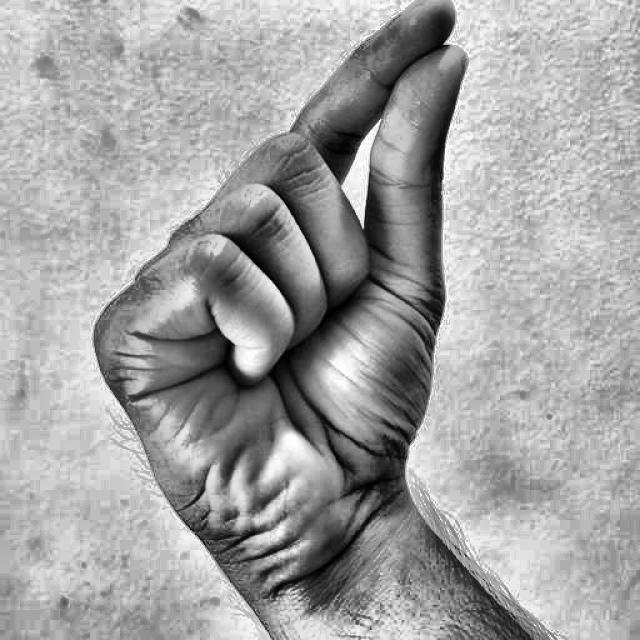Anusshar: (64, 0, 508, 611)
